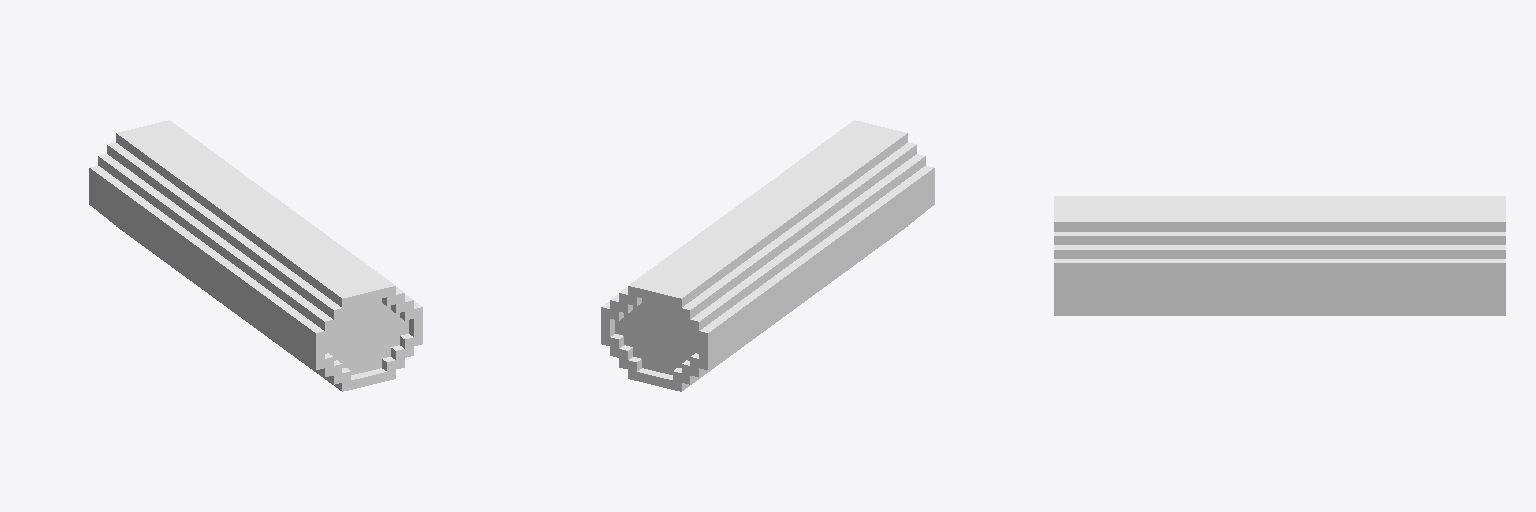
The model's file is Drova.obj.
3 renders of one model, left to right at view 1: azimuth 30°, elevation 25°; view 2: azimuth 150°, elevation 25°; view 3: azimuth 270°, elevation 25°, orthographic.
Parts seen in each view (by area): view 1: Drova; view 2: Drova; view 3: Drova.
Part boxes in pixels (x1,y1,x2,y2): Drova: (89,120,422,391); Drova: (601,120,934,391); Drova: (1054,196,1505,315).
Bounding box in the file's own units: 12 × 10 × 44.